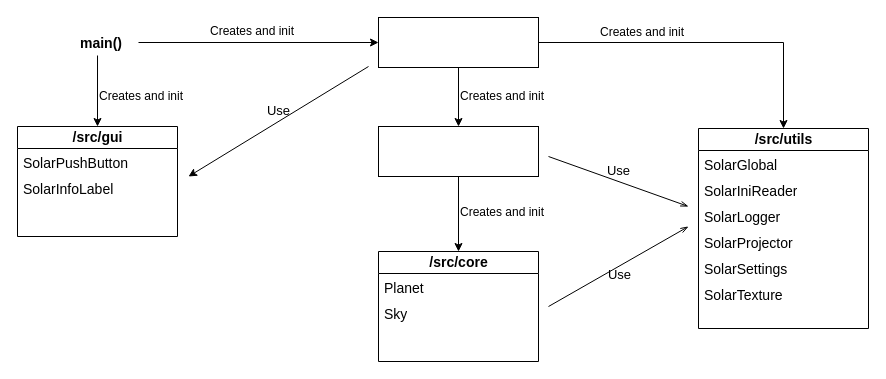
Image size: 886x379. Some labels were removed from this diagram. Here are the shapes that lost their labels. From the top down, the centre of each, then its label:
At (458,42): "SolarMainWidget".
At (458,151): "SolarSystem /src/core".
